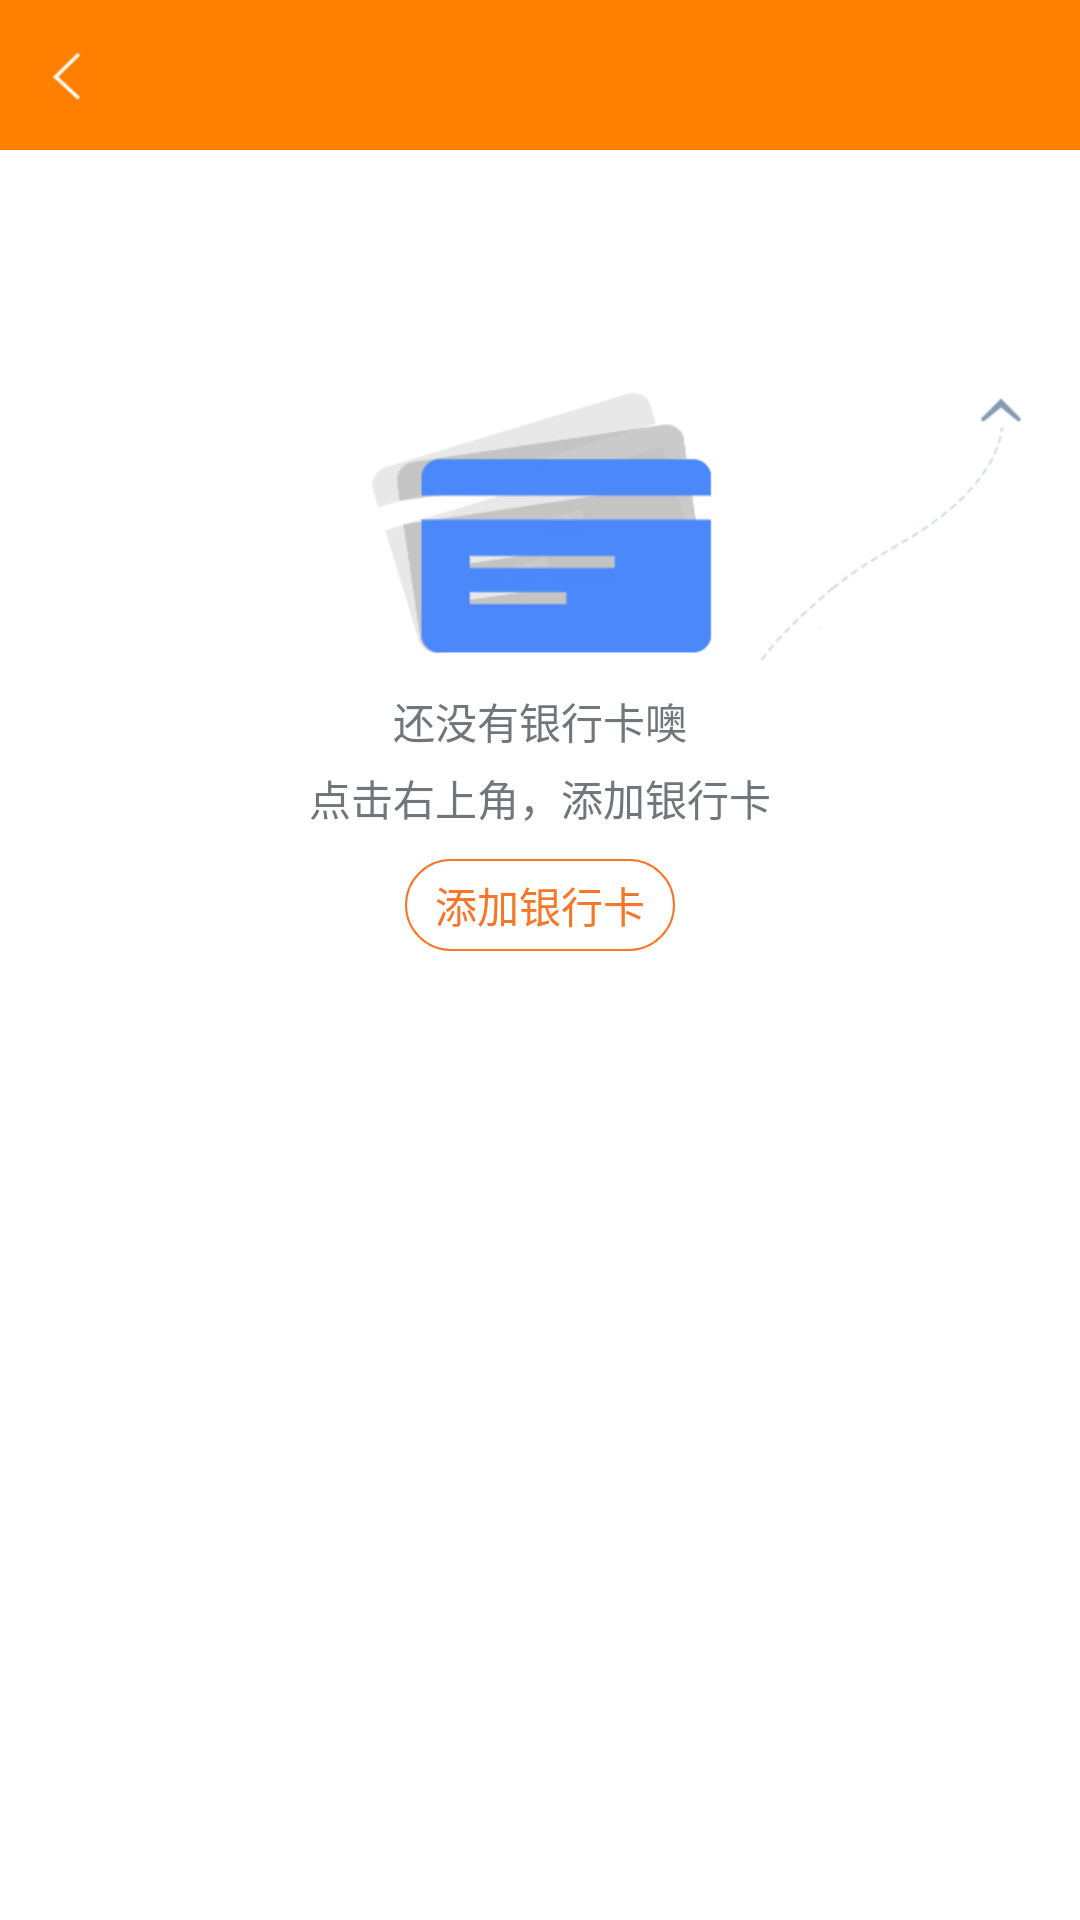

Icon bounding boxes for this 1080px×1920px phone screenshot, format bbox=[x1, y1, x2, y2]:
title back: bbox=[53, 52, 81, 100]
